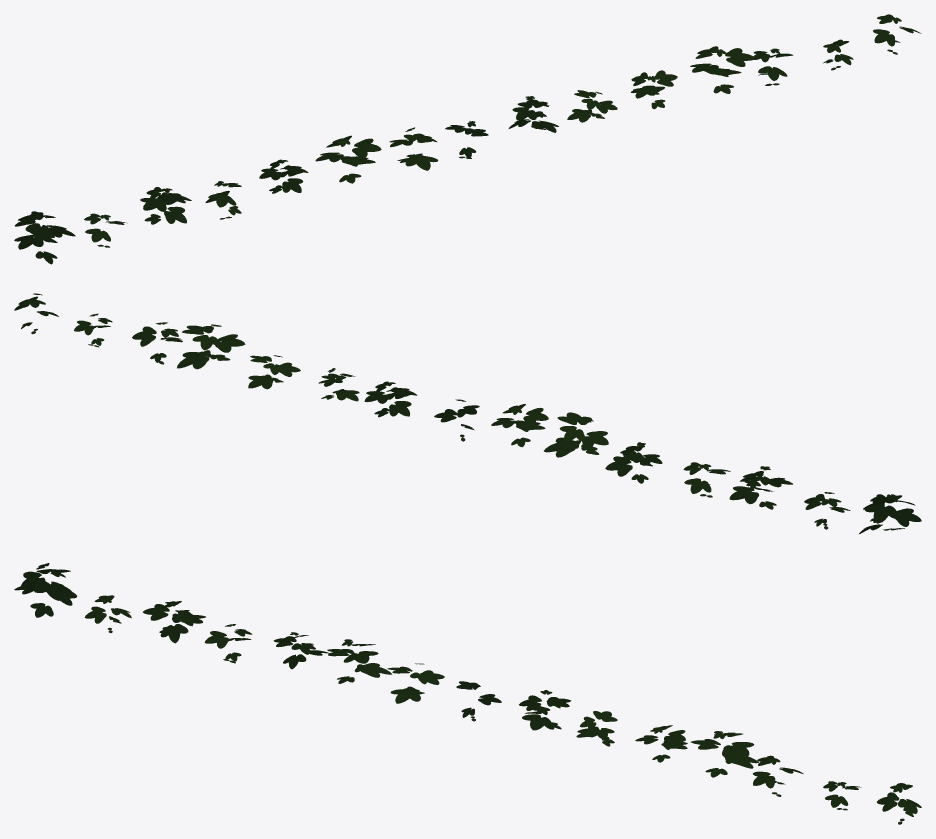
The model's file is ROW_18_SEG4_foliage.dae.
3 views of the same model, one above another, from view 1: azimuth 30°, elevation 25°; view 2: azimuth 150°, elevation 25°; view 3: azimuth 330°, elevation 25° (orthographic).
Visible parts, largest first — view 1: ROW_18_SEG4_foliage; view 2: ROW_18_SEG4_foliage; view 3: ROW_18_SEG4_foliage.
Boxes of the visible parts, x1=… form: ROW_18_SEG4_foliage: x1=14, y1=14, x2=921, y2=264; ROW_18_SEG4_foliage: x1=14, y1=293, x2=921, y2=533; ROW_18_SEG4_foliage: x1=14, y1=563, x2=921, y2=824.
Bounding box in the file's own units: 4.53 × 0.3163 × 0.2405.
